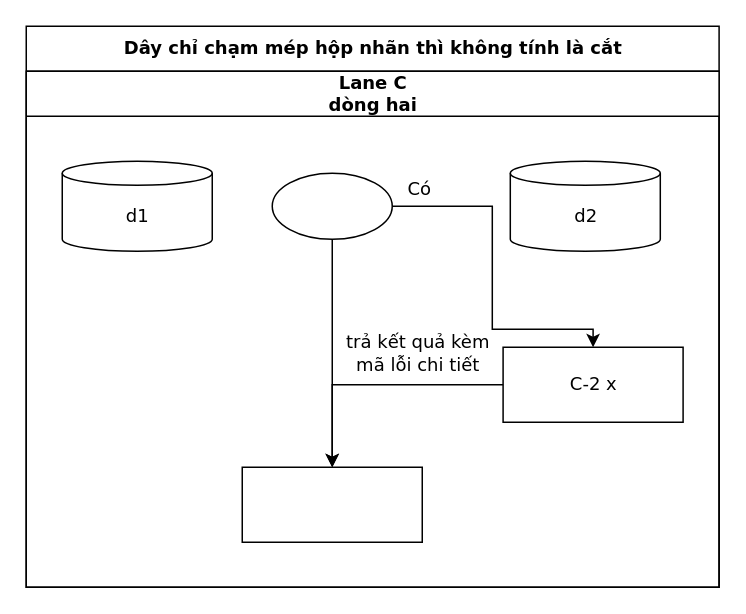
This 746x614 diagram has some shape labels left out. The shapes that lost their labels are listed below. From the top down, each one's centre as x and y in pixels, then its label:
pixel 331 205: C-1 x
pixel 331 504: C-3 x
